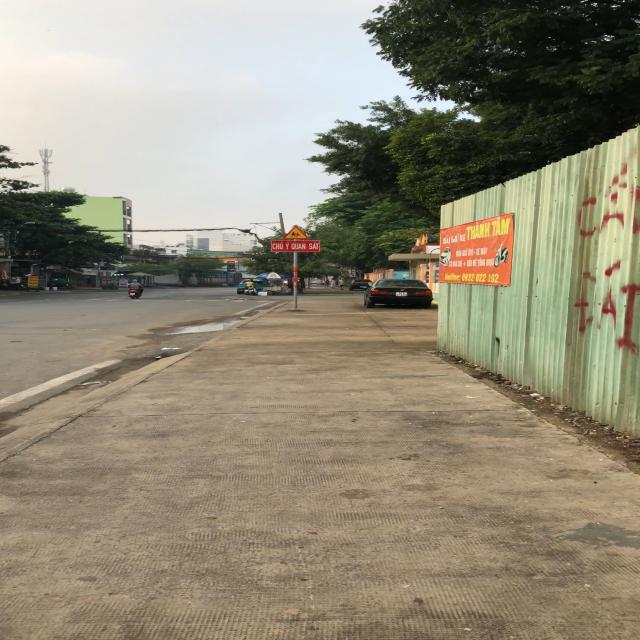Bien bao tre em: (282, 223, 311, 239)
